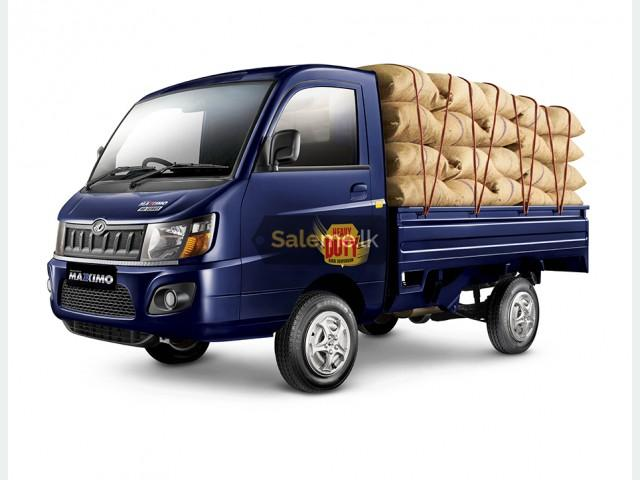truck: (46, 63, 589, 394)
